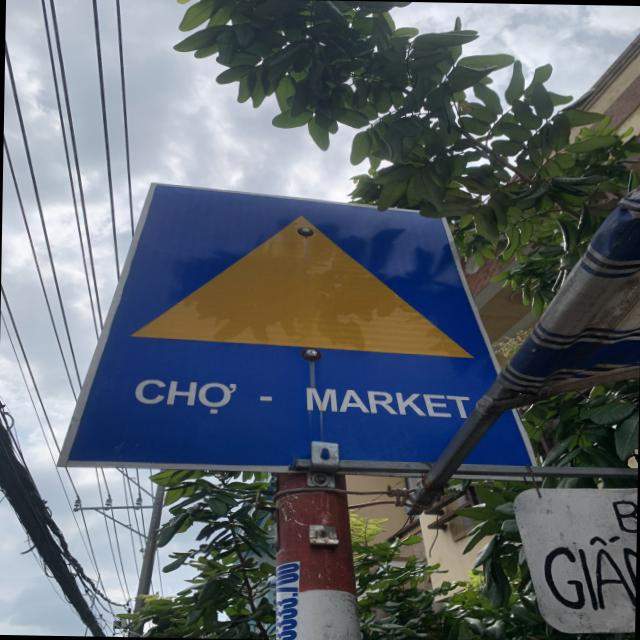Cho_Quay_Xe: (61, 179, 536, 465)
